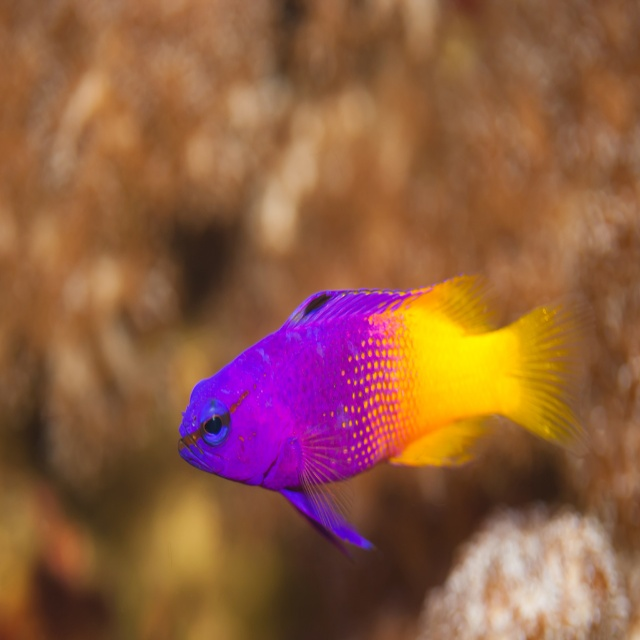Fish: (179, 267, 585, 562)
